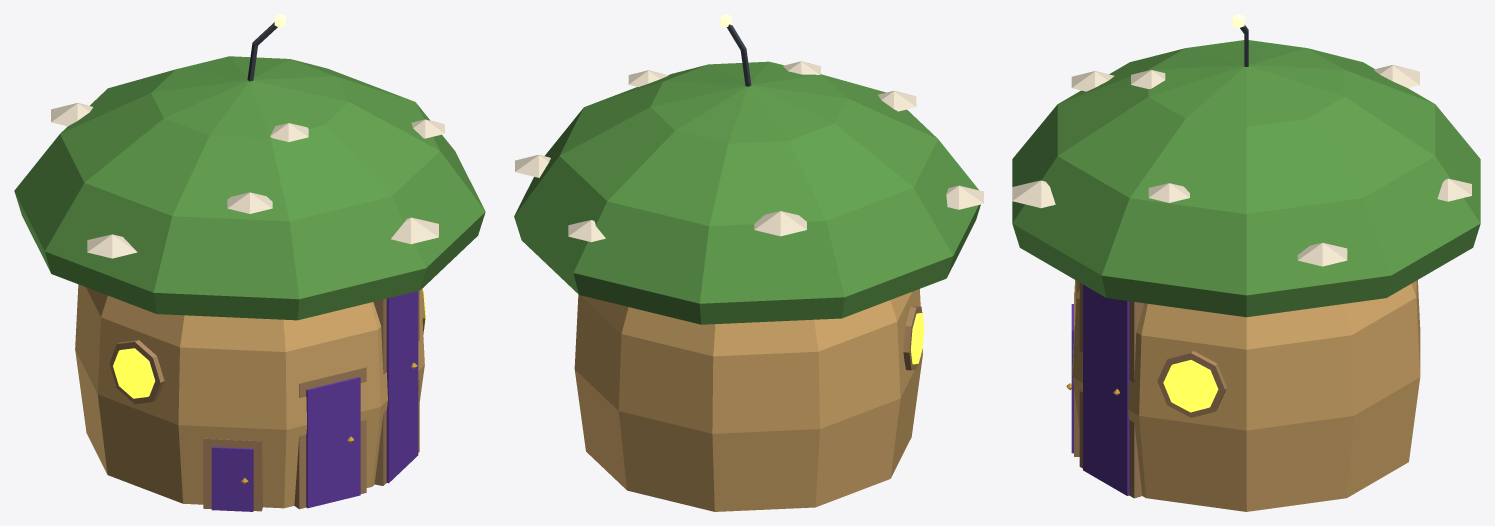
Rendered from Bldg_Home_MushroomAdobe.fbx.
3 renders of one model, left to right at view 1: azimuth 30°, elevation 25°; view 2: azimuth 150°, elevation 25°; view 3: azimuth 270°, elevation 25°, orthographic. The views are drawn at different scales.
Visible parts, largest first — view 1: Bldg_Home_MushroomAdobe_Body, Bldg_Home_MushroomAdobe_Door_Medium, Bldg_Home_MushroomAdobe_Door_Tall, Bldg_Home_MushroomAdobe_Door_Small; view 2: Bldg_Home_MushroomAdobe_Body; view 3: Bldg_Home_MushroomAdobe_Body, Bldg_Home_MushroomAdobe_Door_Tall.
Boxes of the visible parts, x1,y1,x2,y2 form: Bldg_Home_MushroomAdobe_Body: [14, 14, 485, 511]; Bldg_Home_MushroomAdobe_Door_Medium: [306, 377, 360, 508]; Bldg_Home_MushroomAdobe_Door_Tall: [386, 291, 418, 483]; Bldg_Home_MushroomAdobe_Door_Small: [211, 447, 253, 511]; Bldg_Home_MushroomAdobe_Body: [514, 14, 983, 511]; Bldg_Home_MushroomAdobe_Body: [1012, 14, 1480, 511]; Bldg_Home_MushroomAdobe_Door_Tall: [1083, 284, 1129, 495].
Bounding box in the file's own units: 6.2 × 6.1 × 5.9.
